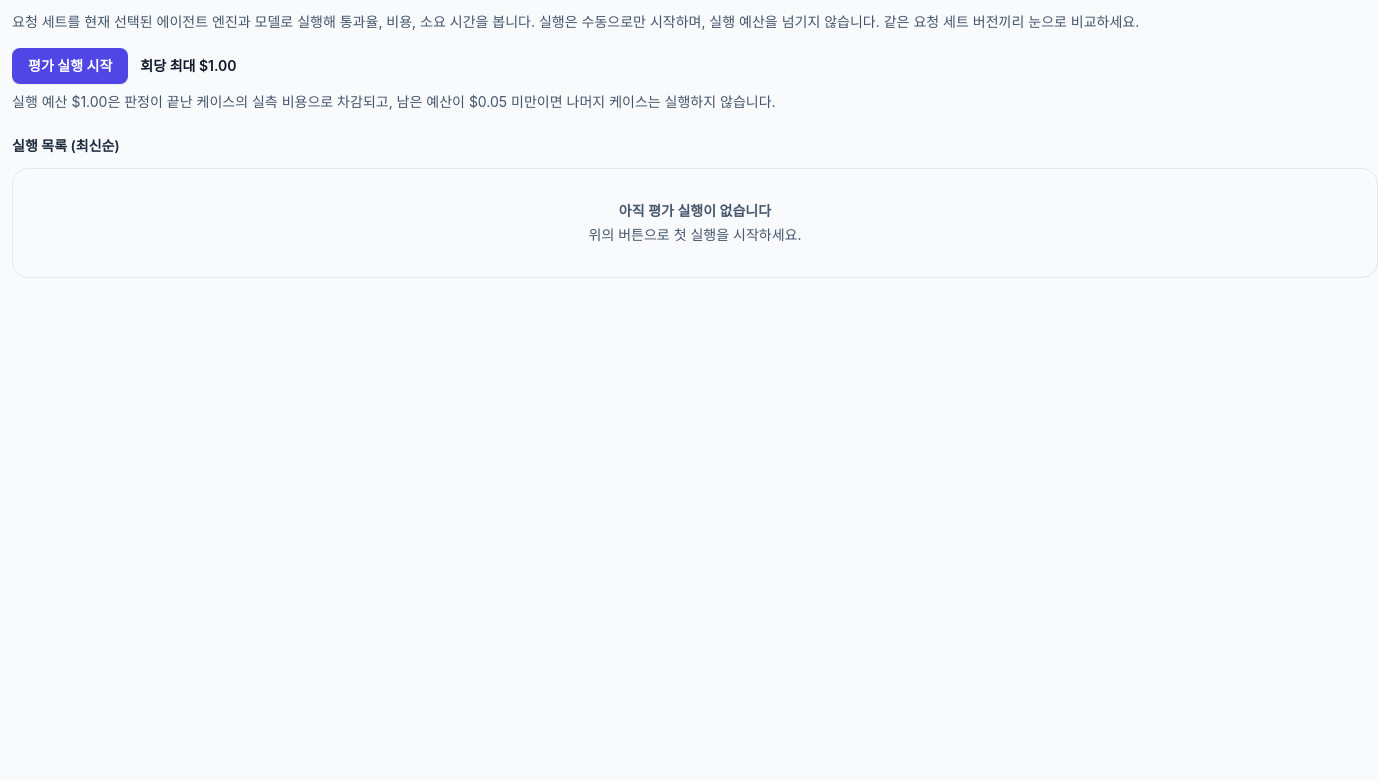
Scenario: EvalRunsPanel start confirmation — focus › returns focus to the start button after cancelling
Click the button "평가 실행 시작" at coordinates (70, 66), box [12,48,128,84]
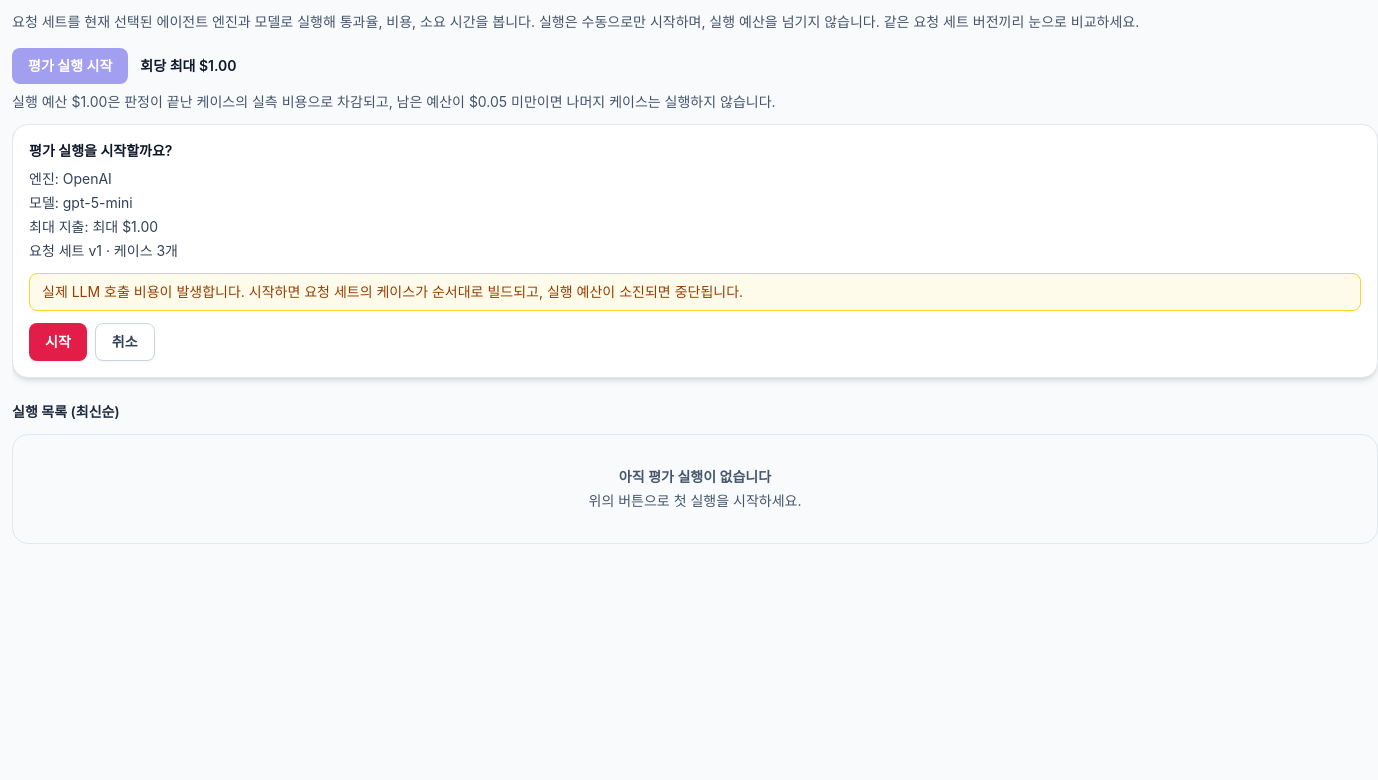
Click the button "취소" at coordinates (125, 342), box [95,323,155,361]
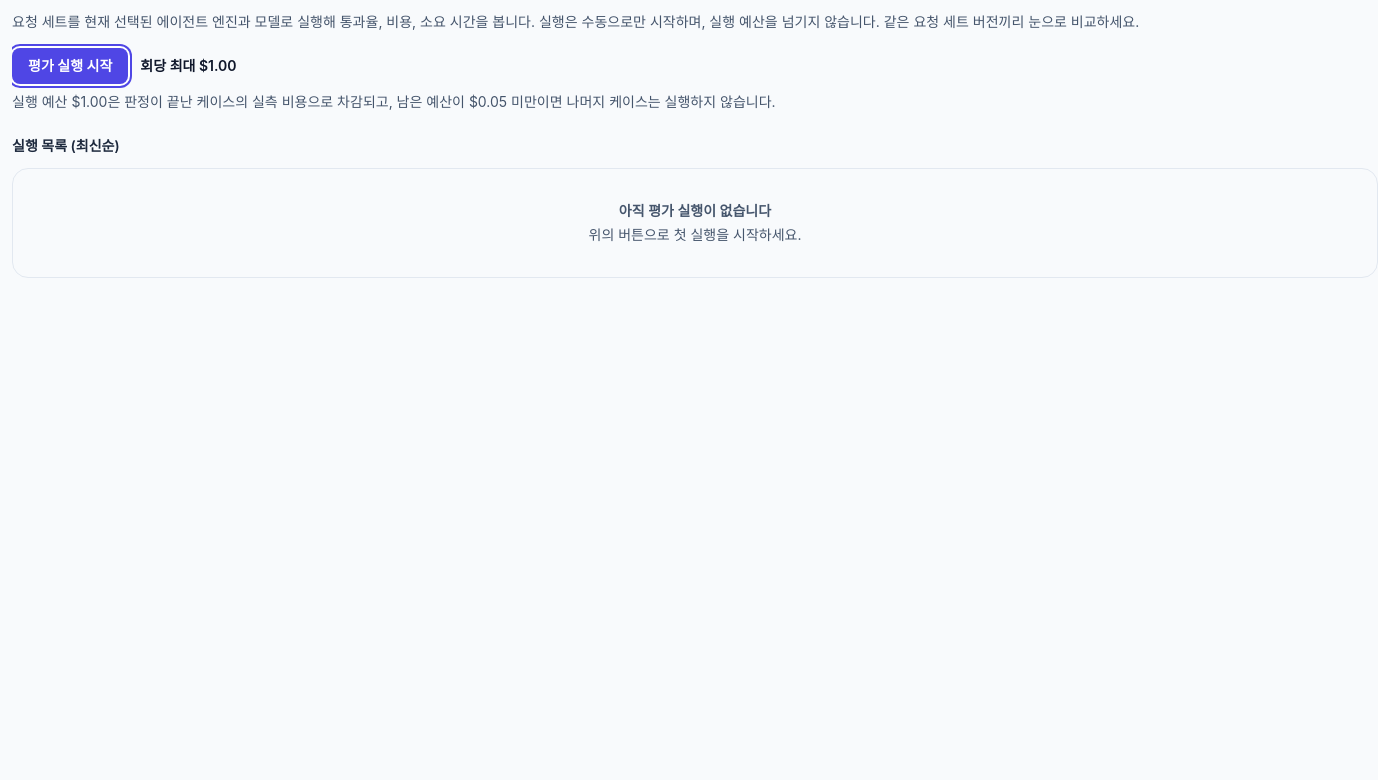
Expected: the text "평가 실행을 시작할까요?" is gone
Expected: the button "평가 실행 시작" is enabled, [12,48,128,84]
